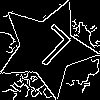L: (21, 23, 73, 75)
